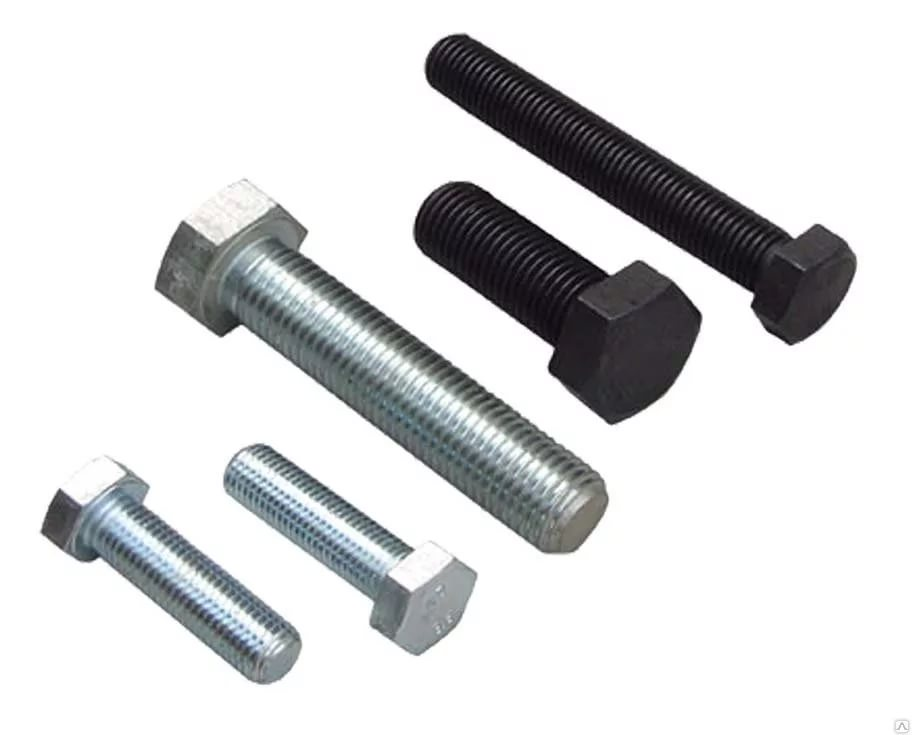screw: (153, 177, 610, 555), (423, 31, 857, 346), (411, 180, 701, 425), (39, 453, 304, 687), (221, 444, 478, 654)
